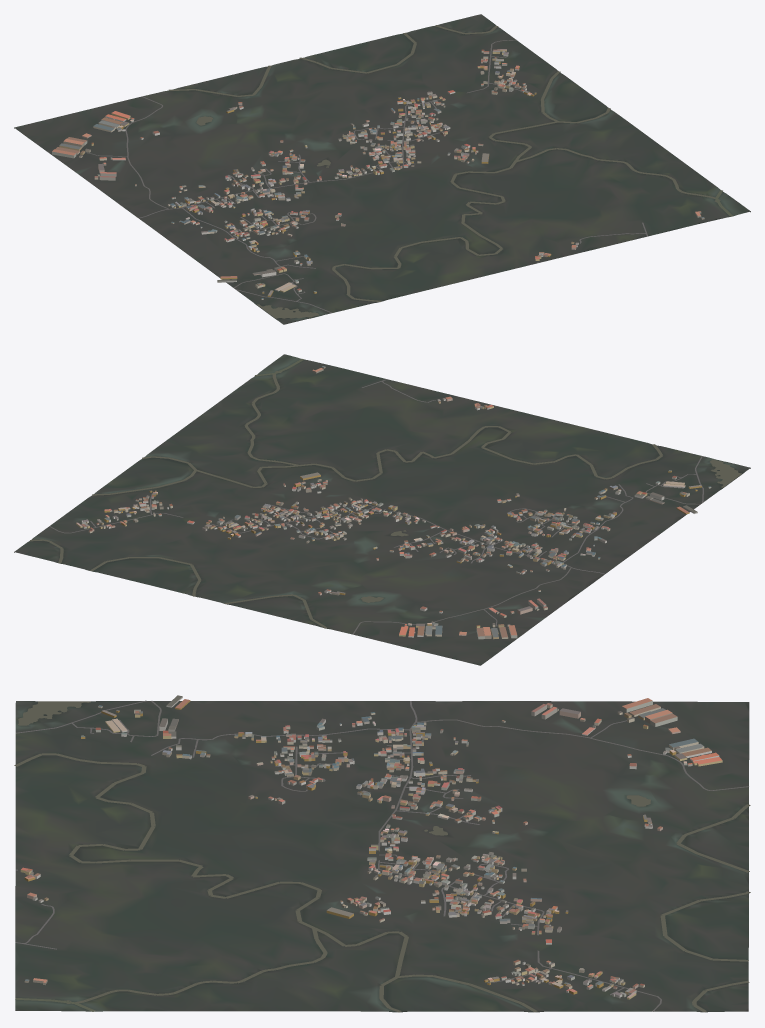
3 renders of one model, top to bottom at view 1: azimuth 30°, elevation 25°; view 2: azimuth 150°, elevation 25°; view 3: azimuth 270°, elevation 25°, orthographic. The views are drawn at different scales.
Parts seen in each view (by area): view 1: ground, buildings, water, roads; view 2: ground, buildings, water, roads; view 3: ground, buildings, water, roads.
Boxes of the visible parts, box(x1,y1,x2,y2) form: ground: box(14, 14, 750, 324); buildings: box(52, 49, 704, 299); water: box(168, 25, 732, 318); roads: box(85, 39, 648, 312); ground: box(14, 354, 750, 665); buildings: box(76, 366, 711, 639); water: box(30, 359, 741, 628); roads: box(49, 379, 703, 634); ground: box(15, 701, 749, 1012); buildings: box(20, 695, 722, 999); water: box(14, 701, 750, 1012); roads: box(15, 700, 748, 1011).
Bounding box in the file's own units: 1423 × 15.47 × 1409.
